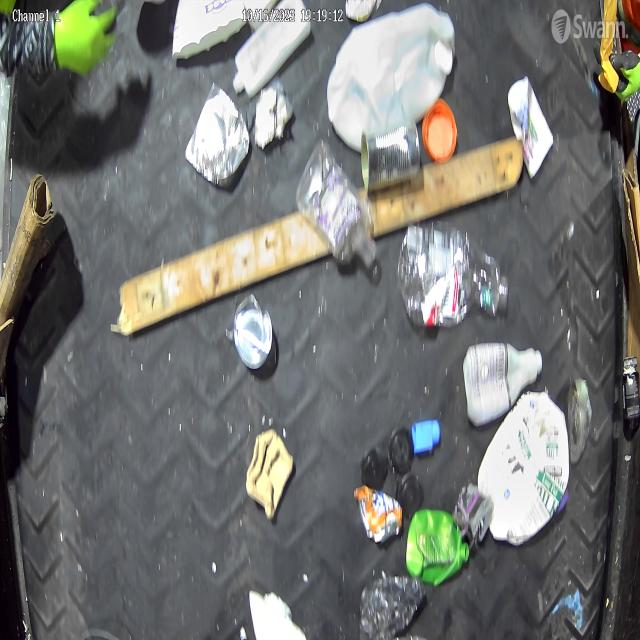can: (183, 82, 250, 188), (361, 116, 422, 195), (232, 294, 276, 371), (352, 485, 403, 546)
milk_jug: (328, 0, 455, 154), (478, 391, 572, 548)
non_white_jug: (405, 507, 471, 589)
plastic_bottle: (396, 216, 512, 332), (292, 136, 380, 276)
